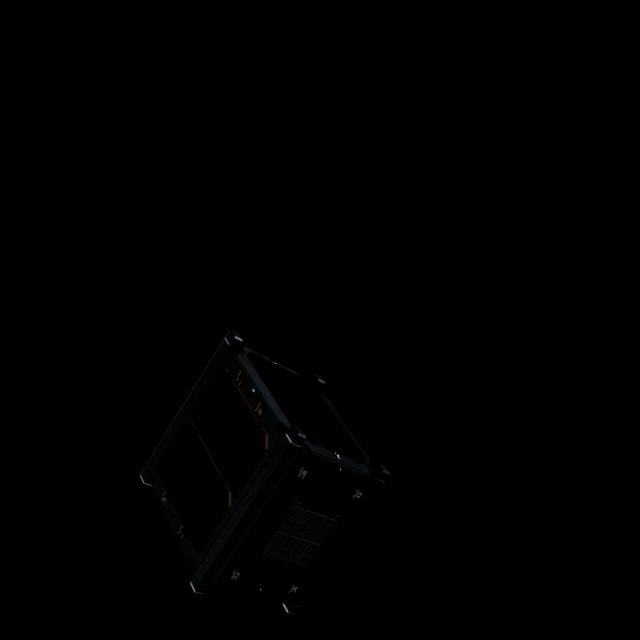medium_debris: (89, 315, 405, 631)
